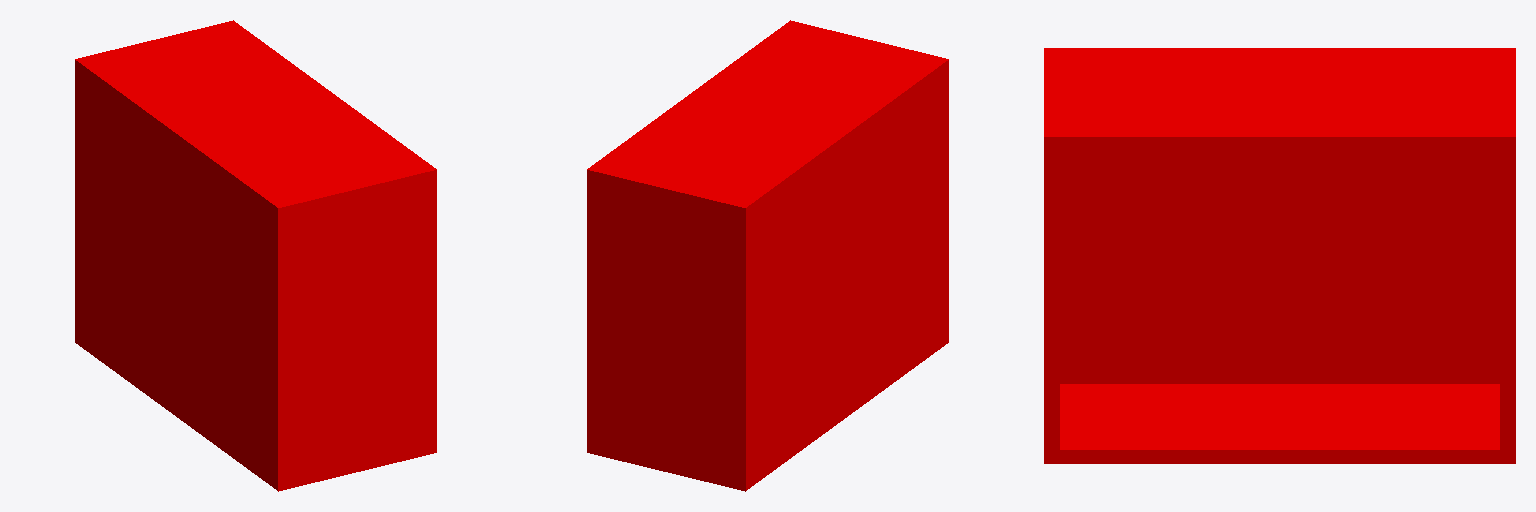
The robot description file, URDF, robot "fetch":
<?xml version="1.0"?>
<robot name="fetch">
  
  <link name="base_link">
    <inertial>
      <origin rpy="0 0 0" xyz="-0.0036 0.0 0.0014" />
      <mass value="70.1294" />
      <inertia ixx="1.225" ixy="0.0099" ixz="0.0062" iyy="1.2853" iyz="-0.0034" izz="0.987" />
    </inertial>
    <visual>
      <origin rpy="0 0 0" xyz="0 0 0" />
      <geometry>
        <mesh filename="package://fetch_description/meshes/base_link.dae" />
      </geometry>
      <material name="">
        <color rgba="0.356 0.361 0.376 1" />
      </material>
    </visual>
    <collision>
      <origin rpy="0 0 0" xyz="0 0 0" />
      <geometry>
        <mesh filename="package://fetch_description/meshes/base_link_collision.STL" />
      </geometry>
    </collision>
  </link>

  <link name="r_wheel_link">
    <inertial>
      <origin rpy="0 0 0" xyz="0 0 0" />
      <mass value="4.3542" />
      <inertia ixx="0.0045" ixy="0" ixz="0" iyy="0.005" iyz="0" izz="0.0045" />
    </inertial>
    <visual>
      <origin rpy="0 0 0" xyz="0 0 0" />
      <geometry>
        <mesh filename="package://fetch_description/meshes/r_wheel_link.STL" />
      </geometry>
      <material name="">
        <color rgba="0.086 0.506 0.767 1" />
      </material>
    </visual>
    <collision>
      <origin rpy="0 0 0" xyz="0 0 0" />
      <geometry>
        <mesh filename="package://fetch_description/meshes/r_wheel_link_collision.STL" />
      </geometry>
    </collision>
  </link>

  <joint name="r_wheel_joint" type="continuous">
    <origin rpy="-6.123E-17 0 0" xyz="0.0012914 -0.18738 0.055325" />
    <parent link="base_link" />
    <child link="r_wheel_link" />
    <axis xyz="0 1 0" />
  <limit effort="8.85" velocity="17.4" /></joint>

  <link name="l_wheel_link">
    <inertial>
      <origin rpy="0 0 0" xyz="0 0 0" />
      <mass value="4.3542" />
      <inertia ixx="0.0045" ixy="0" ixz="0" iyy="0.005" iyz="0" izz="0.0045" />
    </inertial>
    <visual>
      <origin rpy="0 0 0" xyz="0 0 0" />
      <geometry>
        <mesh filename="package://fetch_description/meshes/l_wheel_link.STL" />
      </geometry>
      <material name="">
        <color rgba="0.086 0.506 0.767 1" />
      </material>
    </visual>
    <collision>
      <origin rpy="0 0 0" xyz="0 0 0" />
      <geometry>
        <mesh filename="package://fetch_description/meshes/l_wheel_link_collision.STL" />
      </geometry>
    </collision>
  </link>

  <joint name="l_wheel_joint" type="continuous">
    <origin rpy="-6.123E-17 0 0" xyz="0.0012914 0.18738 0.055325" />
    <parent link="base_link" />
    <child link="l_wheel_link" />
    <axis xyz="0 1 0" />
    <limit effort="8.85" velocity="17.4" />
  </joint>

  <link name="torso_lift_link">
    <inertial>
      <origin rpy="0 0 0" xyz="-0.0013 -0.0009 0.2935" />
      <mass value="10.7796" />
      <inertia ixx="0.3354" ixy="0.0" ixz="-0.0162" iyy="0.3354" iyz="-0.0006" izz="0.0954" />
    </inertial>
    <visual>
      <origin rpy="0 0 0" xyz="0 0 0" />
      <geometry>
        <mesh filename="package://fetch_description/meshes/torso_lift_link.dae" />
      </geometry>
      <material name="">
        <color rgba="1 1 1 1" />
      </material>
    </visual>
    <collision>
      <origin rpy="0 0 0" xyz="0 0 0" />
      <geometry>
        <mesh filename="package://fetch_description/meshes/torso_lift_link_collision.STL" />
      </geometry>
    </collision>
  </link>

  <joint name="torso_lift_joint" type="prismatic">
    <origin rpy="-6.123E-17 0 0" xyz="-0.086875 0 0.37743" />
    <parent link="base_link" />
    <child link="torso_lift_link" />
    <axis xyz="0 0 1" />
    <limit effort="450.0" lower="0" upper="0.38615" velocity="0.1" />
    <dynamics damping="100.0" />
  </joint>

  <link name="head_pan_link">
    <inertial>
      <origin rpy="0 0 0" xyz="0.0321 0.0161 0.0390" />
      <mass value="2.2556" />
      <inertia ixx="0.0129" ixy="0.0002" ixz="0.0007" iyy="0.0095" iyz="-0.0" izz="0.0184" />
    </inertial>
    <visual>
      <origin rpy="0 0 0" xyz="0 0 0" />
      <geometry>
        <mesh filename="package://fetch_description/meshes/head_pan_link.dae" />
      </geometry>
      <material name="">
        <color rgba="0.356 0.361 0.376 1" />
      </material>
    </visual>
    <collision>
      <origin rpy="0 0 0" xyz="0 0 0" />
      <geometry>
        <mesh filename="package://fetch_description/meshes/head_pan_link_collision.STL" />
      </geometry>
    </collision>
  </link>

  <joint name="head_pan_joint" type="revolute">
    <origin rpy="0 0 0" xyz="0.053125 0 0.603001417713939" />
    <parent link="torso_lift_link" />
    <child link="head_pan_link" />
    <axis xyz="0 0 1" />
    <limit effort="0.32" lower="-1.57" upper="1.57" velocity="1.57" />
  </joint>

  <link name="head_tilt_link">
    <inertial>
      <origin rpy="0 0 0" xyz="0.0081 0.0025 0.0113" />
      <mass value="0.9087" />
      <inertia ixx="0.0061" ixy="-0.0" ixz="0.0002" iyy="0.0014" iyz="-0.0001" izz="0.0061" />
    </inertial>
    <visual>
      <origin rpy="0 0 0" xyz="0 0 0" />
      <geometry>
        <mesh filename="package://fetch_description/meshes/head_tilt_link.dae" />
      </geometry>
      <material name="">
        <color rgba="0.086 0.506 0.767 1" />
      </material>
    </visual>
    <collision>
      <origin rpy="0 0 0" xyz="0 0 0" />
      <geometry>
        <mesh filename="package://fetch_description/meshes/head_tilt_link_collision.STL" />
      </geometry>
    </collision>
  </link>

  <joint name="head_tilt_joint" type="revolute">
    <origin rpy="0 0 0" xyz="0.14253 0 0.057999" />
    <parent link="head_pan_link" />
    <child link="head_tilt_link" />
    <axis xyz="0 1 0" />
    <limit effort="0.68" lower="-0.76" upper="1.45" velocity="1.57" />
  </joint>

  <link name="shoulder_pan_link">
    <inertial>
      <origin rpy="0 0 0" xyz="0.0927 -0.0056 0.0564" />
      <mass value="2.5587" />
      <inertia ixx="0.0043" ixy="-0.0001" ixz="0.001" iyy="0.0087" iyz="-0.0001" izz="0.0087" />
    </inertial>
    <visual>
      <origin rpy="0 0 0" xyz="0 0 0" />
      <geometry>
        <mesh filename="package://fetch_description/meshes/shoulder_pan_link.dae" />
      </geometry>
      <material name="">
        <color rgba="1 1 1 1" />
      </material>
    </visual>
    <collision>
      <origin rpy="0 0 0" xyz="0 0 0" />
      <geometry>
        <mesh filename="package://fetch_description/meshes/shoulder_pan_link_collision.STL" />
      </geometry>
    </collision>
  </link>

  <joint name="shoulder_pan_joint" type="revolute">
    <origin rpy="0 0 0" xyz="0.119525 0 0.34858" />
    <parent link="torso_lift_link" />
    <child link="shoulder_pan_link" />
    <axis xyz="0 0 1" />
    <dynamics damping="1.0" />
    <limit effort="33.82" lower="-1.6056" upper="1.6056" velocity="1.256" />
  </joint>

  <link name="shoulder_lift_link">
    <inertial>
      <origin rpy="0 0 0" xyz="0.1432 0.0072 -0.0001" />
      <mass value="2.6615" />
      <inertia ixx="0.0028" ixy="-0.0021" ixz="-0.0" iyy="0.0111" iyz="-0.0" izz="0.0112" />
    </inertial>
    <visual>
      <origin rpy="0 0 0" xyz="0 0 0" />
      <geometry>
        <mesh filename="package://fetch_description/meshes/shoulder_lift_link.dae" />
      </geometry>
      <material name="">
        <color rgba="0.086 0.506 0.767 1" />
      </material>
    </visual>
    <collision>
      <origin rpy="0 0 0" xyz="0 0 0" />
      <geometry>
        <mesh filename="package://fetch_description/meshes/shoulder_lift_link_collision.STL" />
      </geometry>
    </collision>
  </link>

  <joint name="shoulder_lift_joint" type="revolute">
    <origin rpy="0 0 0" xyz="0.117 0 0.0599999999999999" />
    <parent link="shoulder_pan_link" />
    <child link="shoulder_lift_link" />
    <axis xyz="0 1 0" />
    <dynamics damping="1.0" />
    <limit effort="131.76" lower="-1.221" upper="1.518" velocity="1.454" />
  </joint>

  <link name="upperarm_roll_link">
    <inertial>
      <origin rpy="0 0 0" xyz="0.1165 0.0014 0.0000" />
      <mass value="2.3311" />
      <inertia ixx="0.0019" ixy="-0.0001" ixz="0.0" iyy="0.0045" iyz="0.0" izz="0.0047" />
    </inertial>
    <visual>
      <origin rpy="0 0 0" xyz="0 0 0" />
      <geometry>
        <mesh filename="package://fetch_description/meshes/upperarm_roll_link.dae" />
      </geometry>
      <material name="">
        <color rgba="1 1 1 1" />
      </material>
    </visual>
    <collision>
      <origin rpy="0 0 0" xyz="0 0 0" />
      <geometry>
        <mesh filename="package://fetch_description/meshes/upperarm_roll_link_collision.STL" />
      </geometry>
    </collision>
  </link>

  <joint name="upperarm_roll_joint" type="continuous">
    <origin rpy="0 0 0" xyz="0.219 0 0" />
    <parent link="shoulder_lift_link" />
    <child link="upperarm_roll_link" />
    <axis xyz="1 0 0" />
    <dynamics damping="5.0" />
    <limit effort="76.94" velocity="1.571" />
  </joint>

  <link name="elbow_flex_link">
    <inertial>
      <origin rpy="0 0 0" xyz="0.1279 0.0073 0.0000" />
      <mass value="2.1299" />
      <inertia ixx="0.0024" ixy="-0.0016" ixz="0.0" iyy="0.0082" iyz="-0.0" izz="0.0084" />
    </inertial>
    <visual>
      <origin rpy="0 0 0" xyz="0 0 0" />
      <geometry>
        <mesh filename="package://fetch_description/meshes/elbow_flex_link.dae" />
      </geometry>
      <material name="">
        <color rgba="0.086 0.506 0.767 1" />
      </material>
    </visual>
    <collision>
      <origin rpy="0 0 0" xyz="0 0 0" />
      <geometry>
        <mesh filename="package://fetch_description/meshes/elbow_flex_link_collision.STL" />
      </geometry>
    </collision>
  </link>

  <joint name="elbow_flex_joint" type="revolute">
    <origin rpy="0 0 0" xyz="0.133 0 0" />
    <parent link="upperarm_roll_link" />
    <child link="elbow_flex_link" />
    <axis xyz="0 1 0" />
    <dynamics damping="1.0" />
    <limit effort="66.18" lower="-2.251" upper="2.251" velocity="1.521" />
  </joint>

  <link name="forearm_roll_link">
    <inertial>
      <origin rpy="0 0 0" xyz="0.1097 -0.0266 0.0000" />
      <mass value="1.6563" />
      <inertia ixx="0.0016" ixy="-0.0003" ixz="0.0" iyy="0.003" iyz="-0.0" izz="0.0035" />
    </inertial>
    <visual>
      <origin rpy="0 0 0" xyz="0 0 0" />
      <geometry>
        <mesh filename="package://fetch_description/meshes/forearm_roll_link.dae" />
      </geometry>
      <material name="">
        <color rgba="1 1 1 1" />
      </material>
    </visual>
    <collision>
      <origin rpy="0 0 0" xyz="0 0 0" />
      <geometry>
        <mesh filename="package://fetch_description/meshes/forearm_roll_link_collision.STL" />
      </geometry>
    </collision>
  </link>

  <joint name="forearm_roll_joint" type="continuous">
    <origin rpy="0 0 0" xyz="0.197 0 0" />
    <parent link="elbow_flex_link" />
    <child link="forearm_roll_link" />
    <axis xyz="1 0 0" />
    <dynamics damping="5.0" />
    <limit effort="29.35" velocity="1.571" />
  </joint>

  <link name="wrist_flex_link">
    <inertial>
      <origin rpy="0 0 0" xyz="0.0882 0.0009 -0.0001" />
      <mass value="1.725" />
      <inertia ixx="0.0018" ixy="-0.0001" ixz="-0.0" iyy="0.0042" iyz="0.0" izz="0.0042" />
    </inertial>
    <visual>
      <origin rpy="0 0 0" xyz="0 0 0" />
      <geometry>
        <mesh filename="package://fetch_description/meshes/wrist_flex_link.dae" />
      </geometry>
      <material name="">
        <color rgba="0.086 0.506 0.767 1" />
      </material>
    </visual>
    <collision>
      <origin rpy="0 0 0" xyz="0 0 0" />
      <geometry>
        <mesh filename="package://fetch_description/meshes/wrist_flex_link_collision.STL" />
      </geometry>
    </collision>
  </link>

  <joint name="wrist_flex_joint" type="revolute">
    <origin rpy="0 0 0" xyz="0.1245 0 0" />
    <parent link="forearm_roll_link" />
    <child link="wrist_flex_link" />
    <axis xyz="0 1 0" />
    <dynamics damping="1.0" />
    <limit effort="25.7" lower="-2.16" upper="2.16" velocity="2.268" />
  </joint>

  <link name="wrist_roll_link">
    <inertial>
      <origin rpy="0 0 0" xyz="0.0095 0.0004 -0.0002" />
      <mass value="0.1354" />
      <inertia ixx="0.0001" ixy="0.0" ixz="0.0" iyy="0.0001" iyz="0.0" izz="0.0001" />
    </inertial>
    <visual>
      <origin rpy="0 0 0" xyz="0 0 0" />
      <geometry>
        <mesh filename="package://fetch_description/meshes/wrist_roll_link.dae" />
      </geometry>
      <material name="">
        <color rgba="1 1 1 1" />
      </material>
    </visual>
    <collision>
      <origin rpy="0 0 0" xyz="0 0 0" />
      <geometry>
        <mesh filename="package://fetch_description/meshes/wrist_roll_link_collision.STL" />
      </geometry>
    </collision>
  </link>
  
  <joint name="wrist_roll_joint" type="continuous">
    <origin rpy="0 0 0" xyz="0.1385 0 0" />
    <parent link="wrist_flex_link" />
    <child link="wrist_roll_link" />
    <axis xyz="1 0 0" />
    <limit effort="7.36" velocity="2.268" />
    <dynamics damping="5.0" />
  </joint>

  <link name="gripper_link">
    <inertial>
      <origin rpy="0 0 0" xyz="-0.0900 -0.0001 -0.0017" />
      <mass value="1.5175" />
      <inertia ixx="0.0013" ixy="-0.0" ixz="0.0" iyy="0.0019" iyz="-0.0" izz="0.0024" />
    </inertial>
    <visual>
      <origin rpy="0 0 0" xyz="0 0 0" />
      <geometry>
        <mesh filename="package://fetch_description/meshes/gripper_link.dae" />
      </geometry>
    </visual>
    <collision>
      <origin rpy="0 0 0" xyz="0 0 0" />
      <geometry>
        <mesh filename="package://fetch_description/meshes/gripper_link.STL" />
      </geometry>
    </collision>
  </link>

  <joint name="gripper_axis" type="fixed">
    <origin rpy="0 0 0" xyz="0.16645 0 0" />
    <parent link="wrist_roll_link" />
    <child link="gripper_link" />
    <axis xyz="0 1 0" />
  </joint>

  <link name="r_gripper_finger_link">
    <inertial>
      <origin rpy="0 0 0" xyz="-0.01 0 0" />
      <mass value="0.0798" />
      <inertia ixx="0.002" ixy="0" ixz="0" iyy="0" iyz="0" izz="0" />
    </inertial>
    <visual>
      <origin rpy="0 0 0" xyz="0 0.101425 0" />
      <geometry>
        <mesh filename="package://fetch_description/meshes/r_gripper_finger_link.STL" />
      </geometry>
      <material name="">
        <color rgba="0.356 0.361 0.376 1" />
      </material>
    </visual>
    <collision>
      <origin rpy="0 0 0" xyz="0 0.101425 0" />
      <geometry>
        <mesh filename="package://fetch_description/meshes/r_gripper_finger_link.STL" />
      </geometry>
    </collision>
  </link>

  <joint name="r_gripper_finger_joint" type="prismatic">
    <origin rpy="0 0 0" xyz="0 0.015425 0" />
    <parent link="gripper_link" />
    <child link="r_gripper_finger_link" />
    <axis xyz="0 1 0" />
    <limit effort="60" lower="0.0" upper="0.05" velocity="0.05" /><dynamics damping="100.0" />
  </joint>
  
  <link name="l_gripper_finger_link">
    <inertial>
      <origin rpy="0 0 0" xyz="-0.01 0 0" />
      <mass value="0.0798" />
      <inertia ixx="0.002" ixy="0" ixz="0" iyy="0" iyz="0" izz="0" />
    </inertial>
    <visual>
      <origin rpy="0 0 0" xyz="0 -0.101425 0" />
      <geometry>
        <mesh filename="package://fetch_description/meshes/l_gripper_finger_link.STL" />
      </geometry>
      <material name="">
        <color rgba="0.356 0.361 0.376 1" />
      </material>
    </visual>
    <collision>
      <origin rpy="0 0 0" xyz="0 -0.101425 0" />
      <geometry>
        <mesh filename="package://fetch_description/meshes/l_gripper_finger_link.STL" />
      </geometry>
    </collision>
  </link>

  <joint name="l_gripper_finger_joint" type="prismatic">
    <origin rpy="0 0 0" xyz="0 -0.015425 0" />
    <parent link="gripper_link" />
    <child link="l_gripper_finger_link" />
    <axis xyz="0 -1 0" />
    <limit effort="60" lower="0.0" upper="0.05" velocity="0.05" /><dynamics damping="100.0" />
  </joint>
  
 <link name="fetch_tool_link">
  <visual>
      <origin rpy="0 0 1.5708" xyz="0.115 -0.15 -0.065" />
      <geometry>
        <mesh filename="package://fetch_description/meshes/bucket.STL" scale="0.01 0.01 0.01"/>
      </geometry>
      <material name="">
        <color rgba="1 0 0 1" />
      </material>
    </visual>
    <collision>
      <origin rpy="0 0 1.5708" xyz="0.115 -0.15 -0.065" />
      <geometry>
        <mesh filename="package://fetch_description/meshes/bucket.STL" scale="0.01 0.01 0.01"/>
      </geometry>
    </collision>
    </link>
  
  <joint name="fetch_tool_fixed_joint" type="fixed">
    <origin rpy="0 1.5708 0" xyz="-0.1 0 -0.195"/>
    <parent link="gripper_link"/>
    <child link="fetch_tool_link"/>
  </joint>

  <link name="bellows_link">
    <inertial>
      <origin rpy="0 0 0" xyz="0.0191320000286228 -1.67219873481315E-16 -0.134861625443387" />
      <mass value="0.169374038216602" />
      <inertia ixx="0.00331159128762117" ixy="-8.9230964321455E-18" ixz="-5.38622201018293E-08" iyy="0.00174447292786627" iyz="-8.06964979976371E-17" izz="0.00169417568121457" />
    </inertial>
    <visual>
      <origin rpy="0 0 0" xyz="0 0 0" />
      <geometry>
        <mesh filename="package://fetch_description/meshes/bellows_link.STL" />
      </geometry>
      <material name="">
        <color rgba="0 0 0 1" />
      </material>
    </visual>
    <collision>
      <origin rpy="0 0 0" xyz="0 0 0" />
      <geometry>
        <mesh filename="package://fetch_description/meshes/bellows_link_collision.STL" />
      </geometry>
    </collision>
  </link>

  <joint name="bellows_joint" type="prismatic">
    <origin rpy="0 0 0" xyz="0 0 0" />
    <parent link="torso_lift_link" />
    <child link="bellows_link" />
    <axis xyz="0 0 -1" />
    <limit effort="5.0" lower="0" upper="0.4" velocity="0.1" /> 
  </joint>
  
  <link name="bellows_link2">
    <inertial>
      <origin rpy="0 0 0" xyz="0.0191320000286228 -1.67219873481315E-16 -0.134861625443387" />
      <mass value="0.169374038216602" />
      <inertia ixx="0.00331159128762117" ixy="-8.9230964321455E-18" ixz="-5.38622201018293E-08" iyy="0.00174447292786627" iyz="-8.06964979976371E-17" izz="0.00169417568121457" />
    </inertial>
    <visual>
      <origin rpy="0 0 0" xyz="0 0 0" />
      <geometry>
        <mesh filename="package://fetch_description/meshes/bellows_link.STL" />
      </geometry>
      <material name="">
        <color rgba="0 0 0 1" />
      </material>
    </visual>
    <collision>
      <origin rpy="0 0 0" xyz="0 0 0" />
      <geometry>
        <mesh filename="package://fetch_description/meshes/bellows_link_collision.STL" />
      </geometry>
    </collision>
  </link>

  <joint name="bellows_joint2" type="fixed">
    <origin rpy="0 0 0" xyz="0 0 0" />
    <parent link="torso_lift_link" />
    <child link="bellows_link2" />
  </joint>

  <link name="estop_link">
    <inertial>
      <origin rpy="0 0 0" xyz="0.002434512737072 -0.00330608315239905 0.00665139196650039" />
      <mass value="0.00196130439134723" />
      <inertia ixx="3.02810026604417E-07" ixy="-1.5862023118056E-08" ixz="3.16561396557437E-08" iyy="2.93322917127605E-07" iyz="-4.28833522751273E-08" izz="2.28513272627183E-07" />
    </inertial>
    <visual>
      <origin rpy="0 0 0" xyz="0 0 0" />
      <geometry>
        <mesh filename="package://fetch_description/meshes/estop_link.STL" />
      </geometry>
      <material name="">
        <color rgba="0.8 0 0 1" />
      </material>
    </visual>
    <collision>
      <origin rpy="0 0 0" xyz="0 0 0" />
      <geometry>
        <mesh filename="package://fetch_description/meshes/estop_link.STL" />
      </geometry>
    </collision>
  </link>

  <joint name="estop_joint" type="fixed">
    <origin rpy="1.5708 0 0" xyz="-0.12465 0.23892 0.31127" />
    <parent link="base_link" />
    <child link="estop_link" />
    <axis xyz="0 0 0" />
  </joint>

  <link name="laser_link">
    <inertial>
      <origin rpy="0 0 0" xyz="-0.0306228970175641 0.0007091682908278 0.0551974119471302" />
      <mass value="0.00833634573995571" />
      <inertia ixx="1.01866461240801E-06" ixy="-5.88447626567756E-08" ixz="7.83857244757914E-08" iyy="5.10039589974707E-07" iyz="-7.12664289617235E-09" izz="1.28270671527309E-06" />
    </inertial>
    <visual>
      <origin rpy="0 0 0" xyz="0 0 0" />
      <geometry>
        <mesh filename="package://fetch_description/meshes/laser_link.STL" />
      </geometry>
      <material name="">
        <color rgba="0.792156862745098 0.819607843137255 0.933333333333333 1" />
      </material>
    </visual>
    <collision>
      <origin rpy="0 0 0" xyz="0 0 0" />
      <geometry>
        <mesh filename="package://fetch_description/meshes/laser_link.STL" />
      </geometry>
    </collision>
  </link>

  <joint name="laser_joint" type="fixed">
    <origin rpy="3.14159265359 0 0" xyz="0.235 0 0.2878" />
    <parent link="base_link" />
    <child link="laser_link" />
    <axis xyz="0 0 0" />
  </joint>

  <link name="torso_fixed_link">
    <inertial>
      <origin rpy="0 0 0" xyz="-0.0722 0.0057 0.2656" />
      <mass value="13.2775" />
      <inertia ixx="0.3861" ixy="0.0015" ixz="-0.0102" iyy="0.3388" iyz="0.0117" izz="0.1018" />
    </inertial>
    <visual>
      <origin rpy="0 0 0" xyz="0 0 0" />
      <geometry>
        <mesh filename="package://fetch_description/meshes/torso_fixed_link.dae" />
      </geometry>
      <material name="">
        <color rgba="0.086 0.506 0.767 1" />
      </material>
    </visual>
    <collision>
      <origin rpy="0 0 0" xyz="0 0 0" />
      <geometry>
        <mesh filename="package://fetch_description/meshes/torso_fixed_link.STL" />
      </geometry>
    </collision>
  </link>

  <joint name="torso_fixed_joint" type="fixed">
    <origin rpy="-6.12303176911189E-17 0 0" xyz="-0.086875 0 0.377425" />
    <parent link="base_link" />
    <child link="torso_fixed_link" />
    <axis xyz="0 1 0" />
  </joint>

  <link name="head_camera_link" />

  <joint name="head_camera_joint" type="fixed">
    <origin rpy="0 0 0" xyz="0.055 0 0.0225" />
    <parent link="head_tilt_link" />
    <child link="head_camera_link" />
  </joint>
  
  <link name="head_camera_rgb_frame" />
  
  <joint name="head_camera_rgb_joint" type="fixed">
    <origin rpy="0 0 0" xyz="0 0.02 0" />
    <parent link="head_camera_link" />
    <child link="head_camera_rgb_frame" />
  </joint>

  <link name="head_camera_rgb_optical_frame" />
  
  <joint name="head_camera_rgb_optical_joint" type="fixed">
    <origin rpy="-1.57079632679 0 -1.57079632679" xyz="0 0 0" />
    <parent link="head_camera_rgb_frame" />
    <child link="head_camera_rgb_optical_frame" />
  </joint>
  
  <link name="head_camera_depth_frame" />
  
  <joint name="head_camera_depth_joint" type="fixed">
    <origin rpy="0 0 0" xyz="0 0.045 0" />
    <parent link="head_camera_link" />
    <child link="head_camera_depth_frame" />
  </joint>
  
  <link name="head_camera_depth_optical_frame" />
  
  <joint name="head_camera_depth_optical_joint" type="fixed">
    <origin rpy="-1.57079632679 0 -1.57079632679" xyz="0 0 0" />
    <parent link="head_camera_depth_frame" />
    <child link="head_camera_depth_optical_frame" />
  </joint>
</robot>

--- Facts derived from the render (not from the file) ---
3 views of the same robot in one strip: view 1: azimuth 30°, elevation 25°; view 2: azimuth 150°, elevation 25°; view 3: azimuth 270°, elevation 25° (orthographic).
Model fetch with 27 links and 26 joints (6 revolute, 5 continuous, 4 prismatic, 11 fixed), rooted at base_link, posed every joint at zero.
Links seen in each view (by area): view 1: fetch_tool_link; view 2: fetch_tool_link; view 3: fetch_tool_link.
Link boxes in pixels (x1,y1,x2,y2): fetch_tool_link: (75, 20, 436, 491); fetch_tool_link: (587, 20, 948, 491); fetch_tool_link: (1044, 48, 1515, 463).
Bounding box of the posed robot: 0.135 × 0.3 × 0.23 m (x, y, z).
1 mesh visuals loaded from 21 distinct referenced files (1 binary STL); not drawn: 21 (reference not matched to a file when rendering).